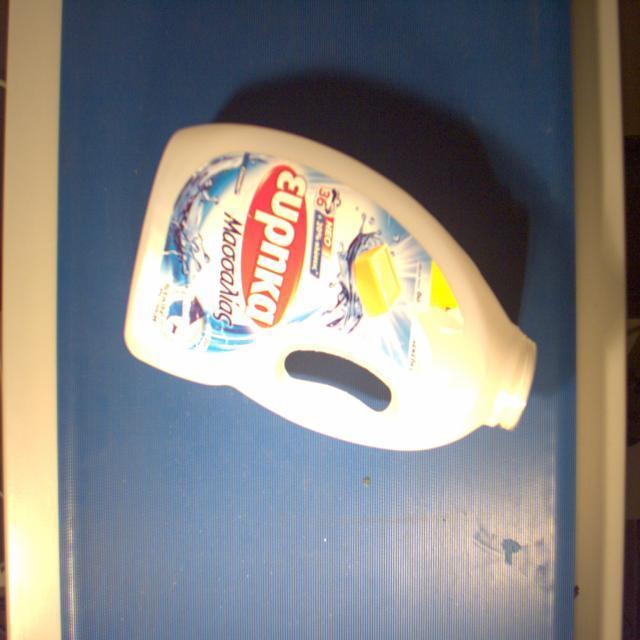HDPE Plastic: (118, 119, 544, 455)
